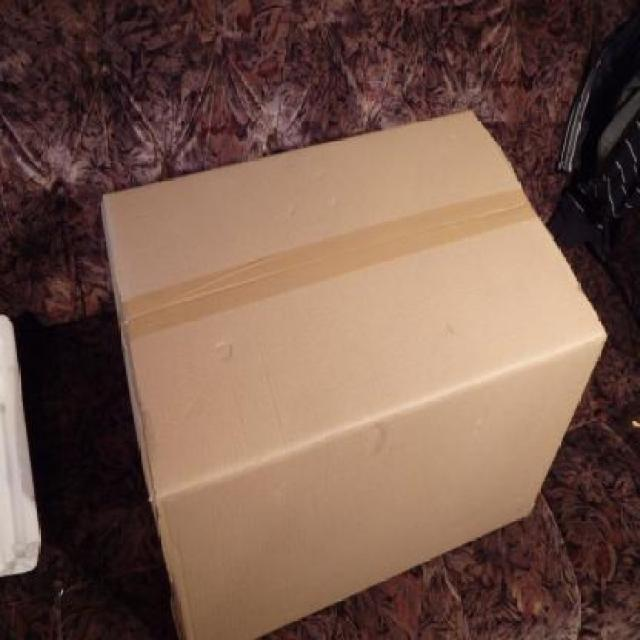box: (100, 102, 611, 640)
